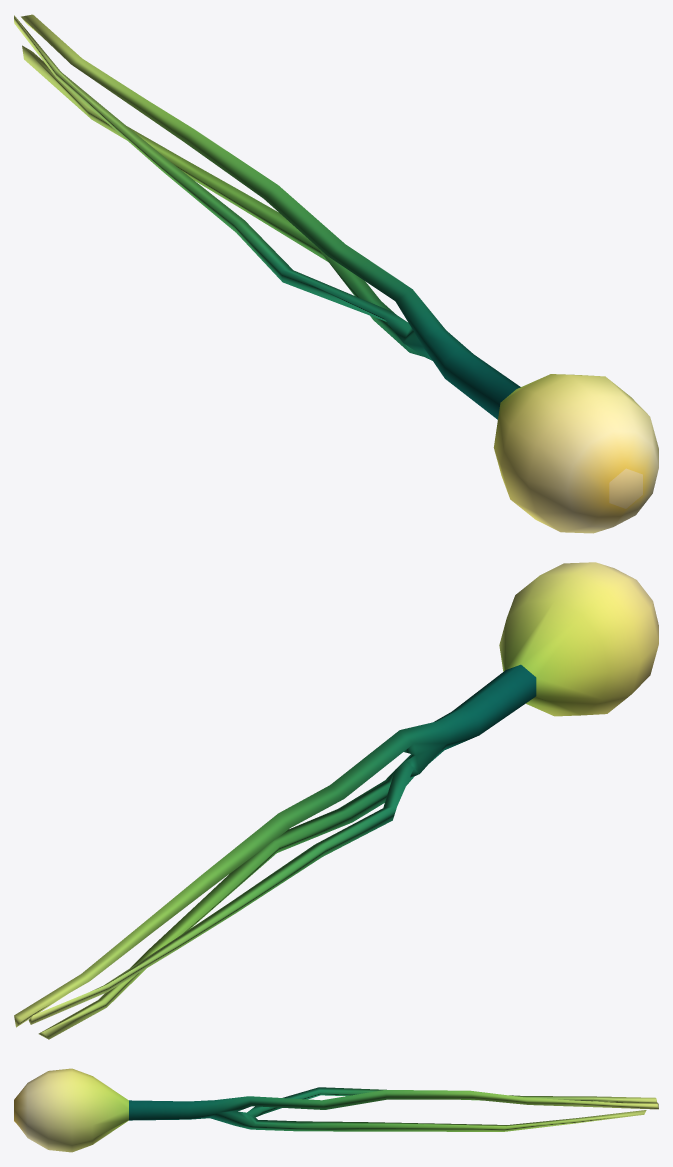
Rendered from greens_002.fbx.
The picture shows the model from 3 angles, top to bottom: view 1: azimuth 30°, elevation 25°; view 2: azimuth 150°, elevation 25°; view 3: azimuth 270°, elevation 25°; orthographic projection. The views are drawn at different scales.
Parts seen in each view (by area): view 1: greens_002; view 2: greens_002; view 3: greens_002.
Boxes of the visible parts, x1=… form: greens_002: x1=14, y1=14, x2=658, y2=533; greens_002: x1=14, y1=562, x2=658, y2=1039; greens_002: x1=14, y1=1068, x2=658, y2=1152.
Size of the model in its own units: 6.97 by 53.27 by 6.97.
